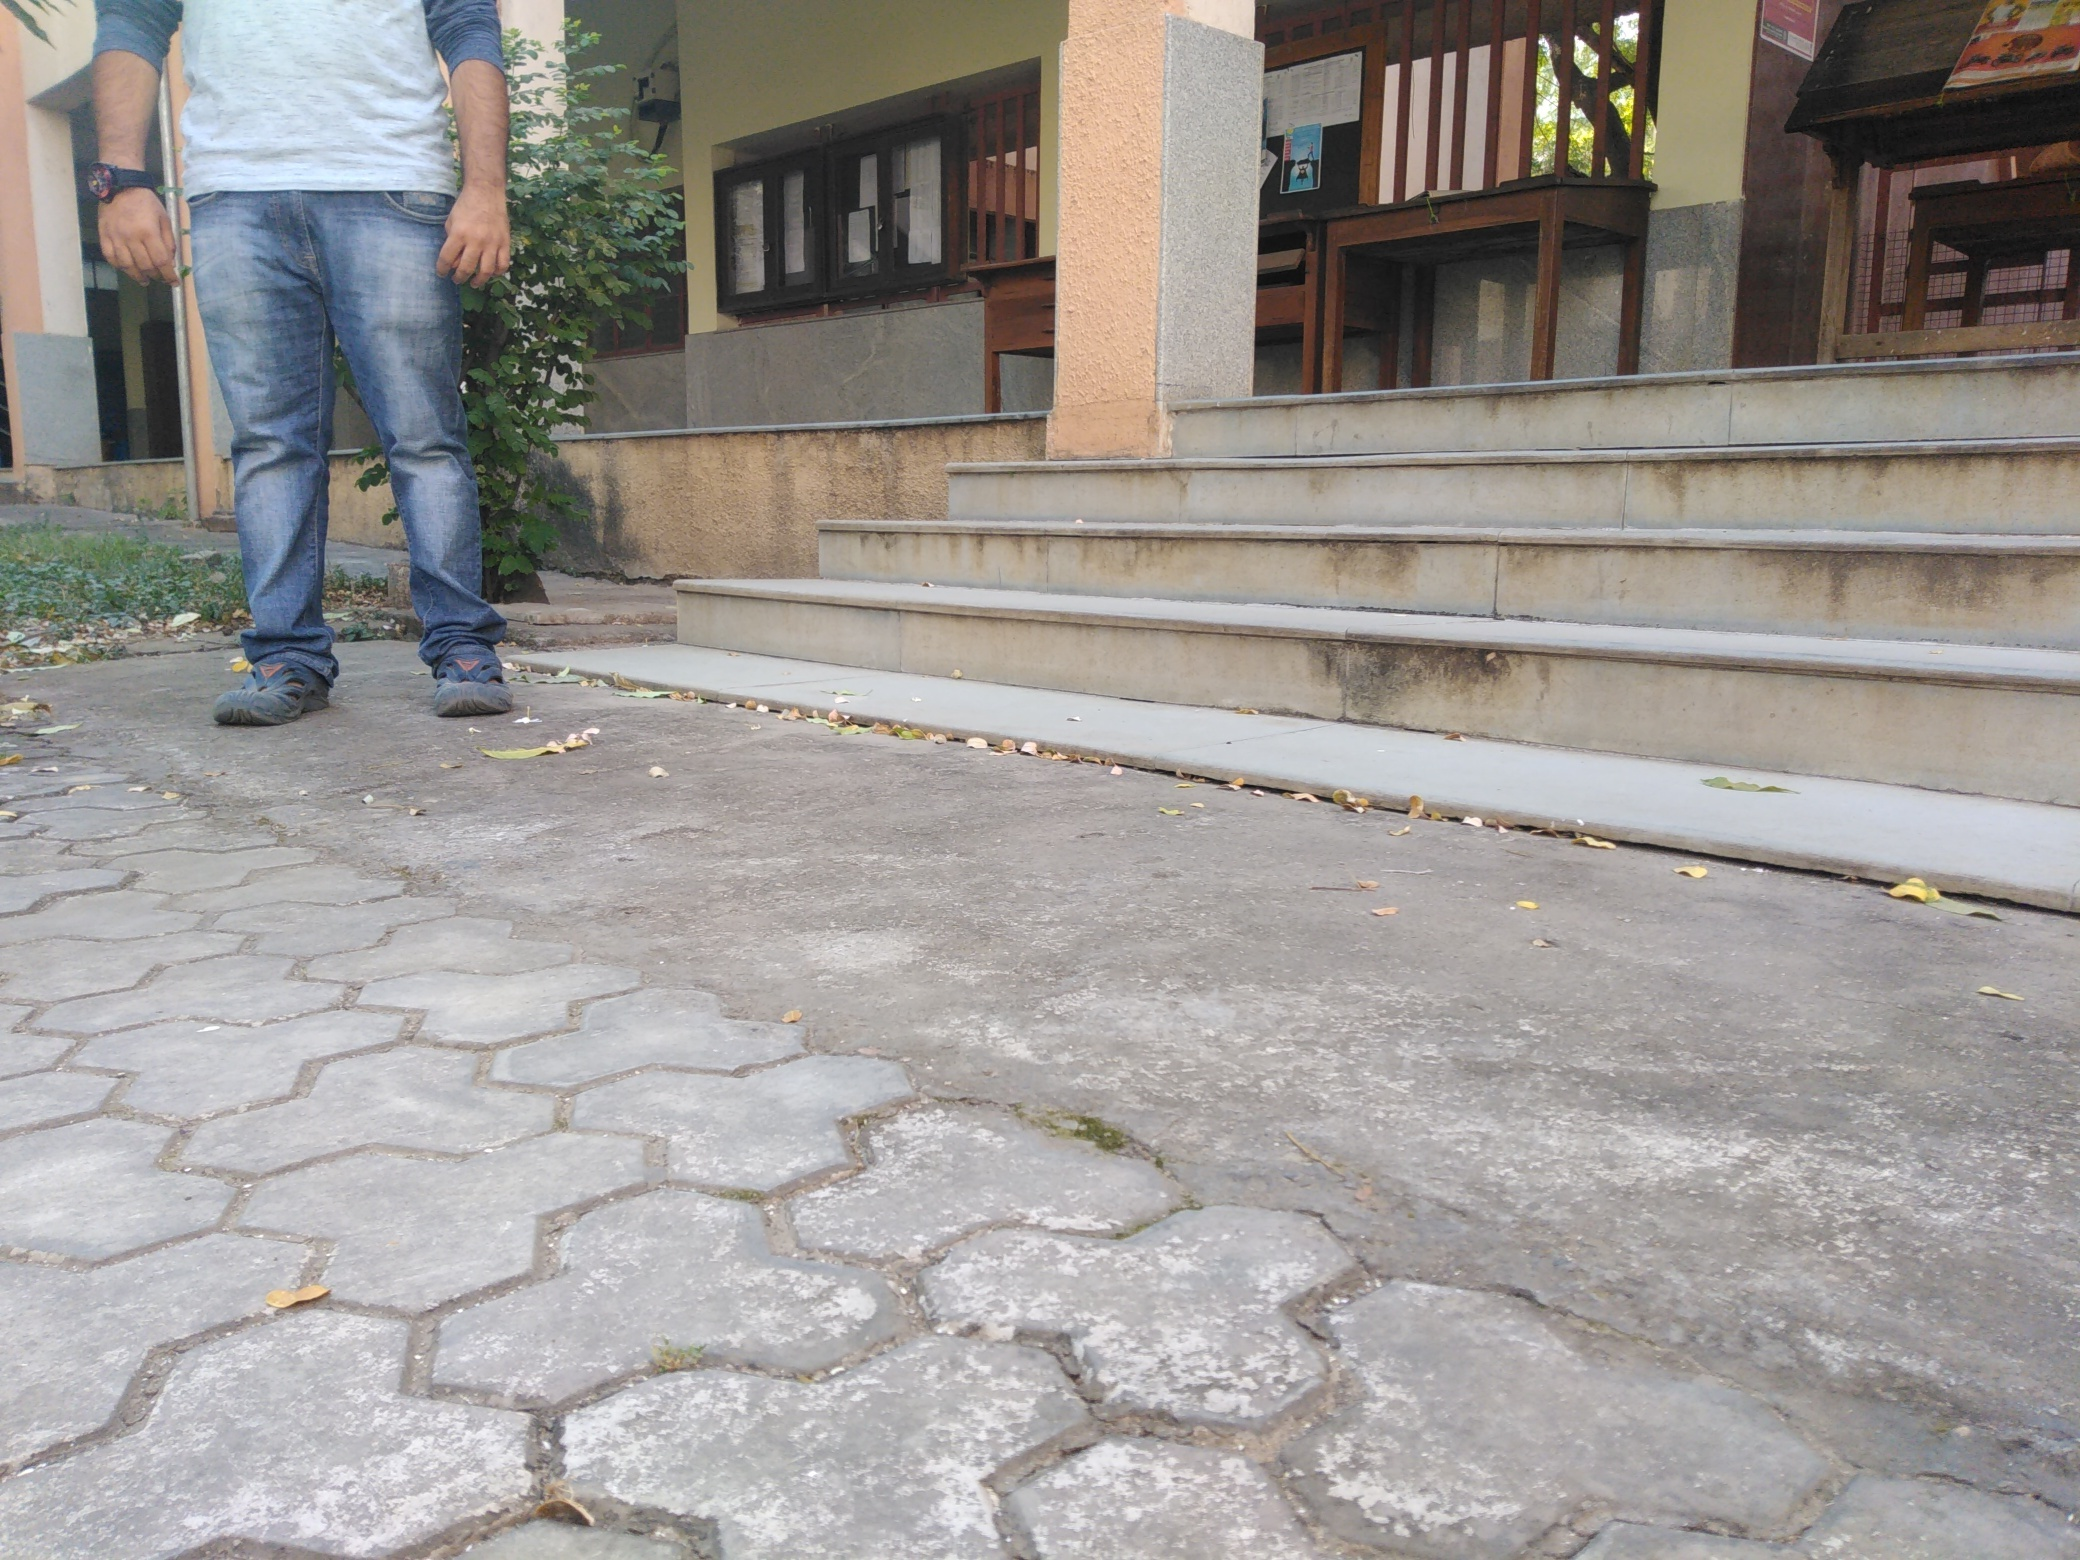stairs_up: (668, 347, 2072, 734)
